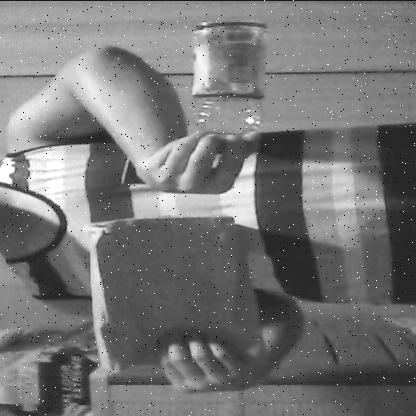Plastic Bottle: (174, 11, 283, 159)
